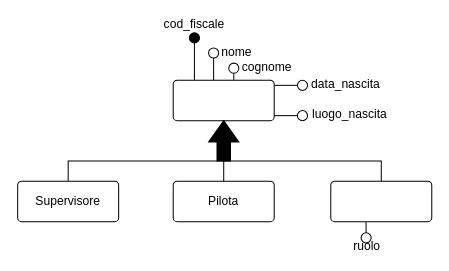
The diagram is 449 pixels wide and 271 high, and some of its shapes have lost their labels. Each missing label, with the centre of its shape:
"Meccanico" goes at pixel 381 201.
"Persona" goes at pixel 223 100.
